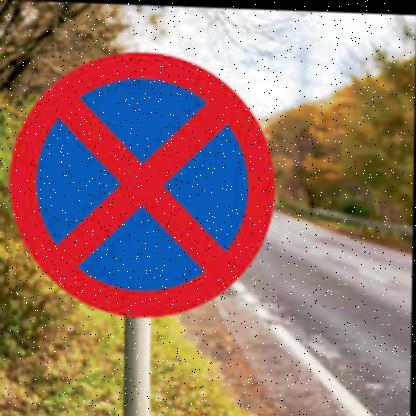No stopping: (5, 43, 283, 325)
